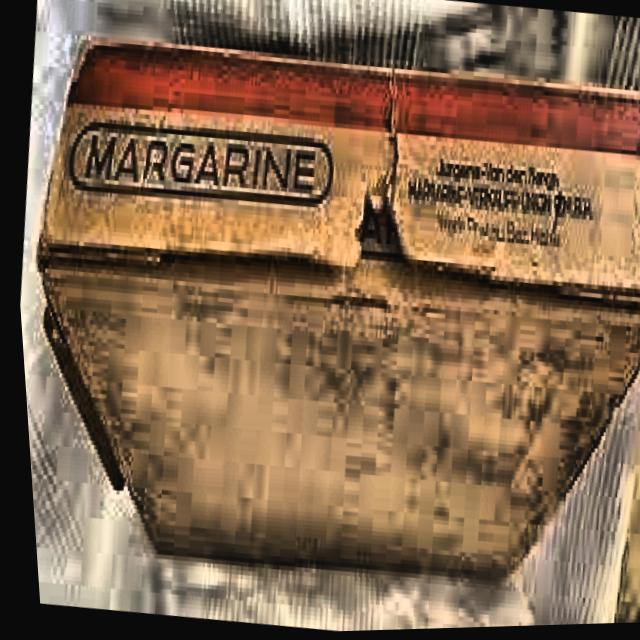Cardbox: (1, 0, 640, 629)
